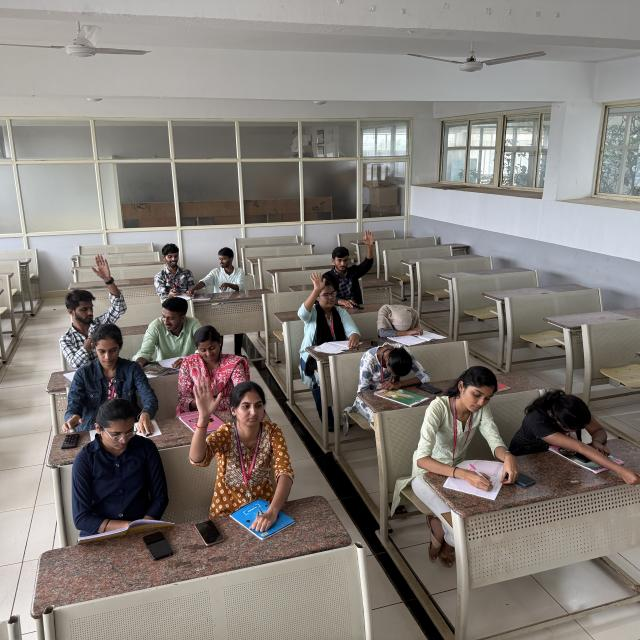Hand Rising: (188, 368, 292, 510), (60, 250, 129, 346), (295, 267, 344, 348), (330, 227, 378, 294)
Reading: (66, 394, 174, 535)
Sleeping: (512, 380, 632, 470), (349, 338, 429, 400), (370, 299, 430, 340)
Using Phone: (153, 240, 198, 300)
Writing: (411, 359, 521, 502)
